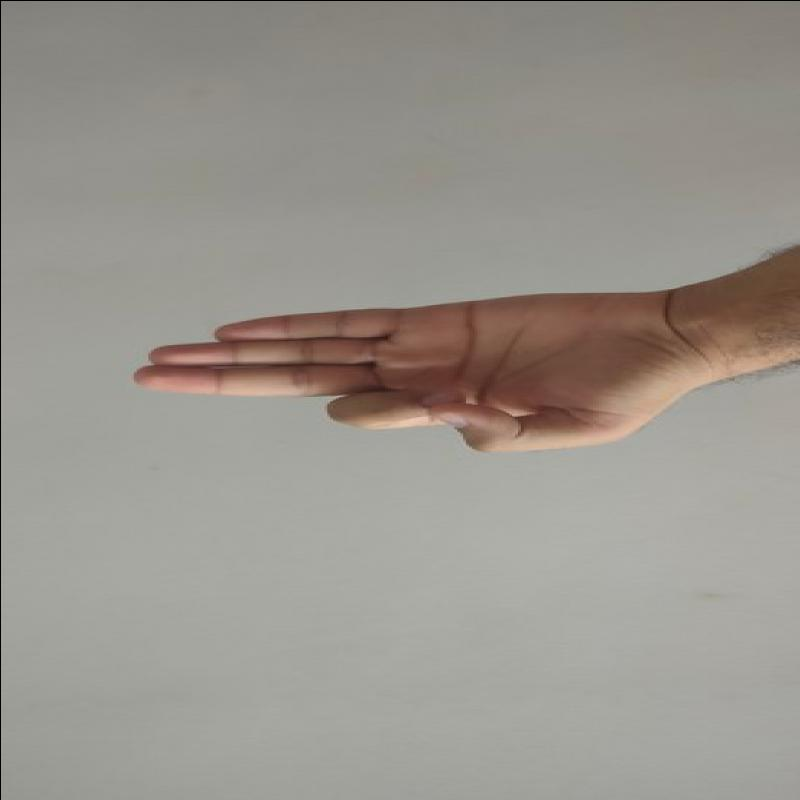Mudraakhyam: (117, 282, 696, 473)
